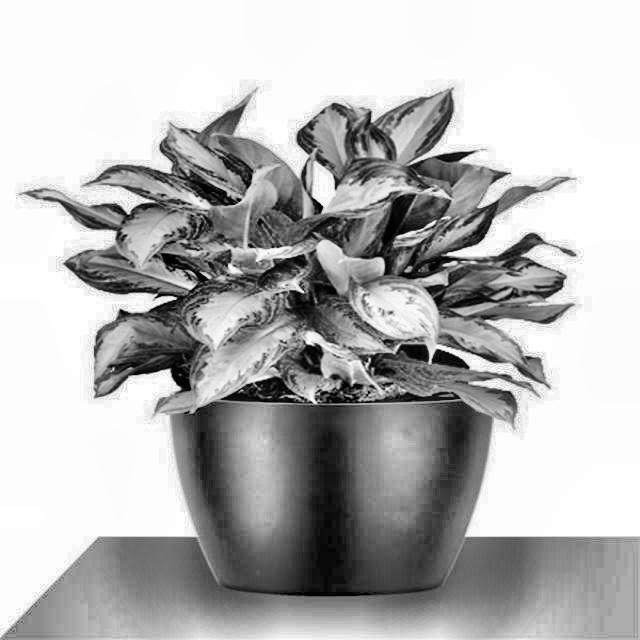plants: (14, 93, 590, 587)
